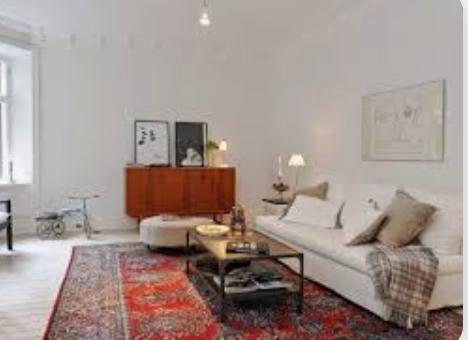carpet: (47, 243, 462, 340)
